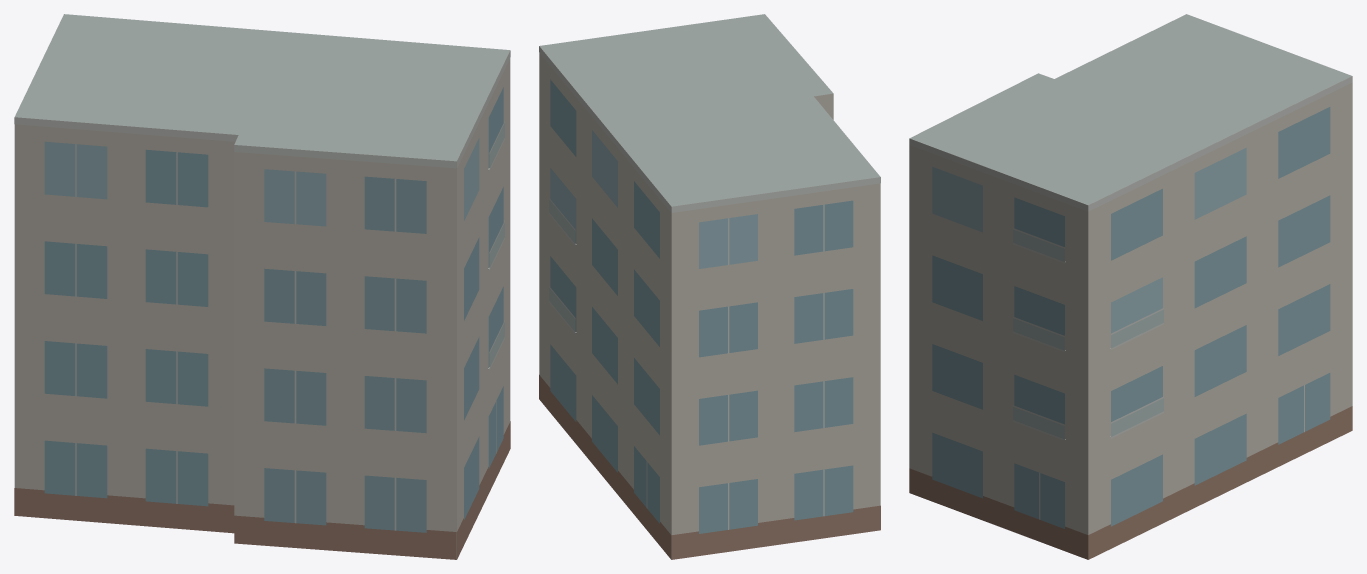
The model's file is survey-upis-32946067.glb.
The picture shows the model from 3 angles, left to right: view 1: azimuth 30°, elevation 25°; view 2: azimuth 150°, elevation 25°; view 3: azimuth 270°, elevation 25°; orthographic projection. The views are drawn at different scales.
Parts seen in each view (by area): view 1: survey-upis-32946067.tmp; view 2: survey-upis-32946067.tmp; view 3: survey-upis-32946067.tmp.
Boxes of the visible parts, box(x1,y1,x2,y2) form: survey-upis-32946067.tmp: box(14, 14, 510, 559); survey-upis-32946067.tmp: box(539, 14, 880, 559); survey-upis-32946067.tmp: box(909, 14, 1352, 559).
Bounding box in the file's own units: 15.86 × 13.7 × 15.53.
